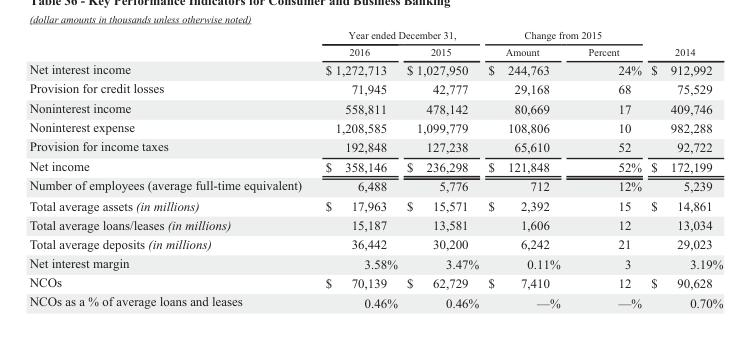table: (28, 29, 722, 309)
table column: (28, 29, 312, 309), (482, 29, 573, 309), (312, 29, 401, 309), (401, 29, 482, 309), (645, 29, 722, 309), (573, 29, 645, 309)
table column header: (28, 29, 722, 59)
table row: (28, 78, 722, 98), (28, 136, 722, 156), (28, 175, 722, 195), (28, 214, 722, 234), (28, 59, 722, 78), (28, 98, 722, 117), (28, 117, 722, 136), (28, 156, 722, 175), (28, 195, 722, 214), (28, 234, 722, 253), (28, 253, 722, 272), (28, 272, 722, 291), (28, 291, 722, 309), (28, 43, 722, 59), (28, 29, 722, 43)
table spanning cell: (312, 29, 482, 43), (645, 29, 722, 59), (482, 29, 645, 43)
